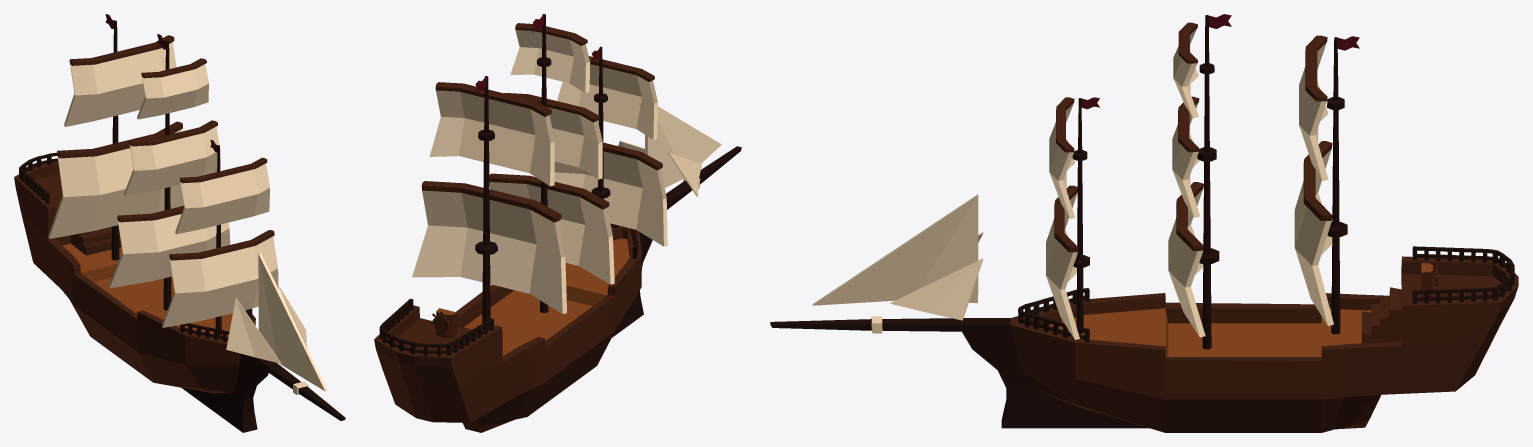
The model's file is sail.glb.
3 renders of one model, left to right at view 1: azimuth 30°, elevation 25°; view 2: azimuth 150°, elevation 25°; view 3: azimuth 270°, elevation 25°, orthographic. The views are drawn at different scales.
Visible parts, largest first — view 1: sail; view 2: sail; view 3: sail.
Part boxes in pixels (x1,y1,x2,y2): sail: [14, 14, 345, 432]; sail: [374, 14, 741, 432]; sail: [770, 14, 1518, 432].
Bounding box in the file's own units: 6.91 × 15.7 × 26.
Materials: 1 (1 with a texture image).
